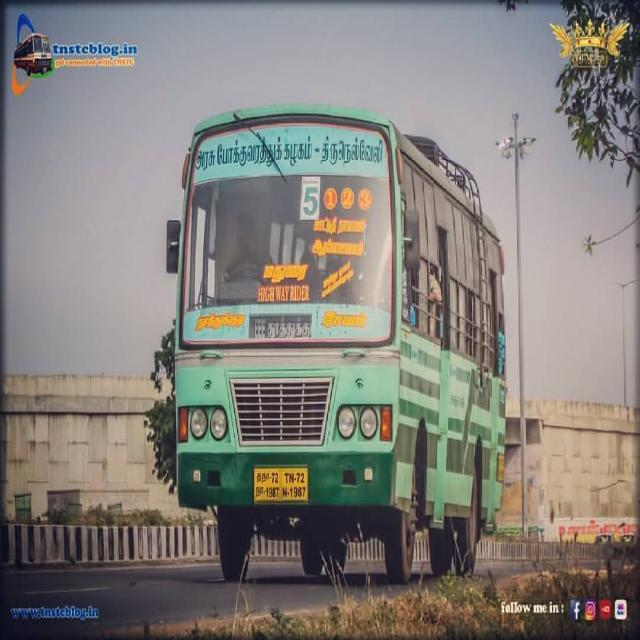Bus: (167, 101, 507, 585)
